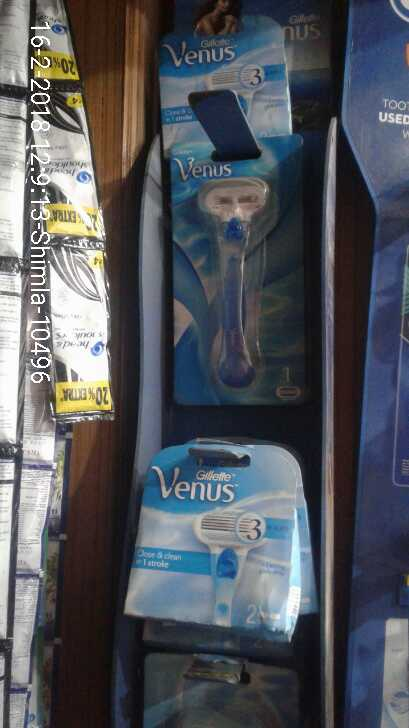beauty: (137, 444, 317, 634), (164, 144, 291, 404), (30, 239, 119, 433), (29, 83, 111, 242)
